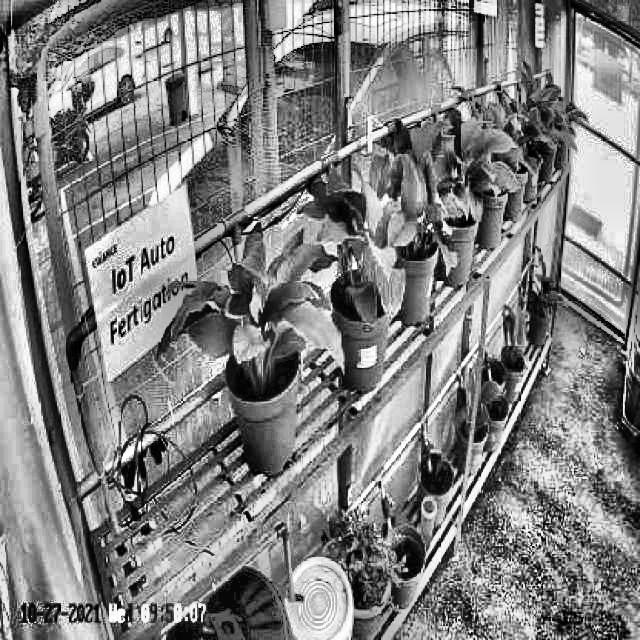plants: (158, 224, 344, 403), (308, 179, 408, 333), (374, 144, 460, 281), (412, 111, 516, 220)
